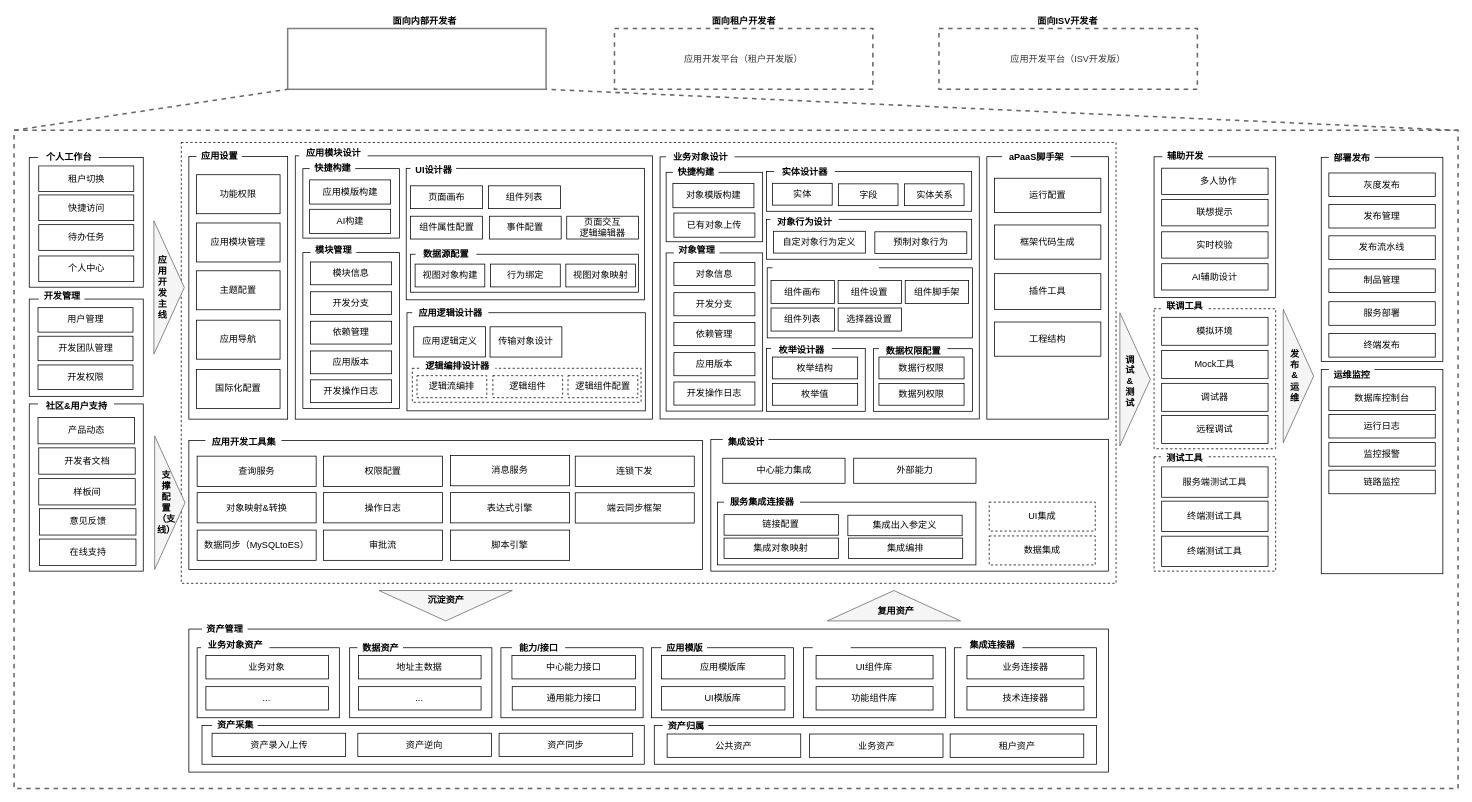
Image size: 1472x802. Some labels were removed from this diagram. The centre of each missing label's shape, as x and y in pixels:
"业务对象UI组件设计器" goes at pixel 825 270.
"应用开发平台（原厂开发版）" goes at pixel 416 58.
"组件库" goes at pixel 831 645.
